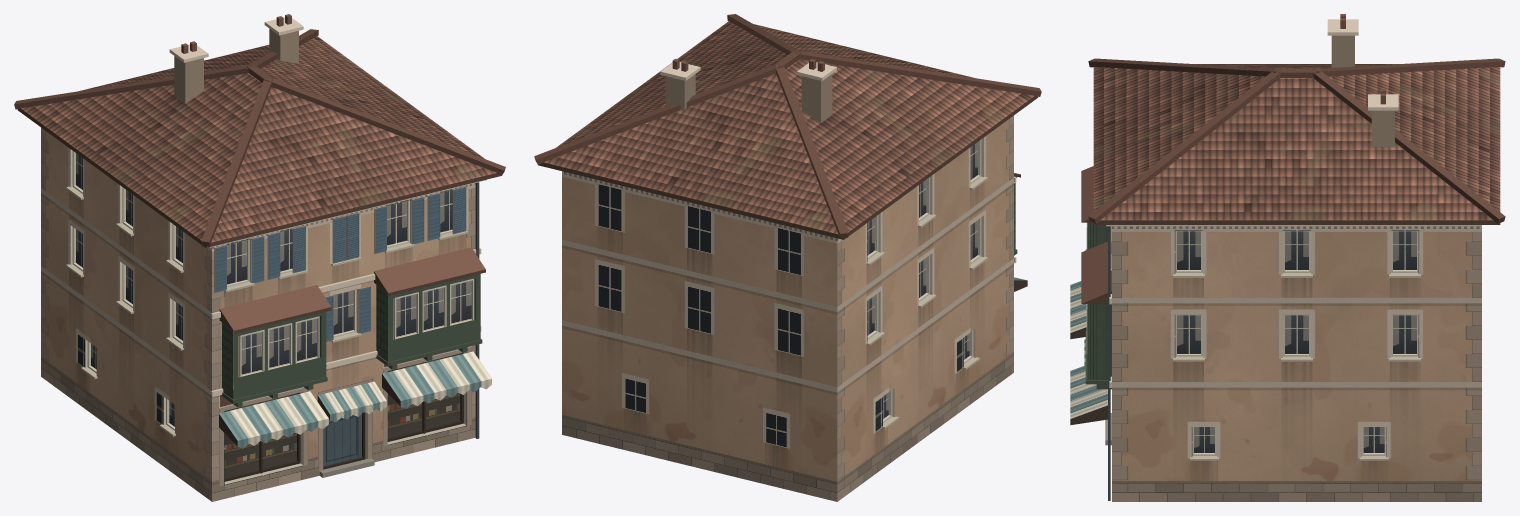
File: hero_bazaar_b.glb
3 views of the same model, side by side, from view 1: azimuth 30°, elevation 25°; view 2: azimuth 150°, elevation 25°; view 3: azimuth 270°, elevation 25° (orthographic). The views are drawn at different scales.
Visible parts, largest first — view 1: bld_hero_bazaar_b; view 2: bld_hero_bazaar_b; view 3: bld_hero_bazaar_b.
Boxes of the visible parts, bbox=[...] form: bld_hero_bazaar_b: bbox=[14, 14, 505, 501]; bld_hero_bazaar_b: bbox=[534, 14, 1041, 501]; bld_hero_bazaar_b: bbox=[1070, 14, 1505, 501].
Bounding box in the file's own units: 12.33 × 13.9 × 14.12.
1 material, 1 textured.
